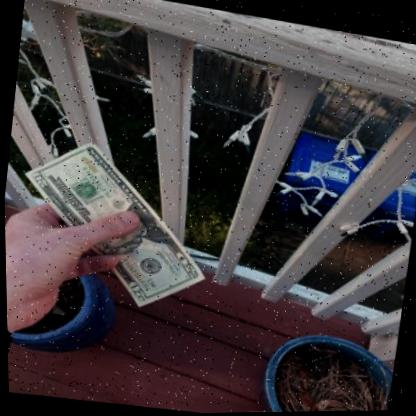dollar_front: (24, 140, 207, 307)
